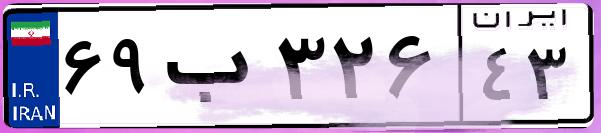2: (330, 28, 385, 110)
3: (270, 28, 330, 110), (525, 38, 570, 115)
4: (475, 38, 525, 113)
6: (385, 28, 445, 110), (57, 26, 110, 100)
9: (110, 28, 158, 98)
ب: (158, 20, 270, 120)
